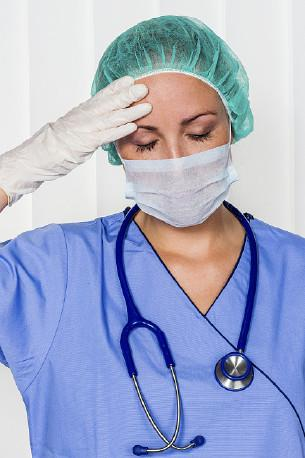OK: (118, 101, 247, 230)
